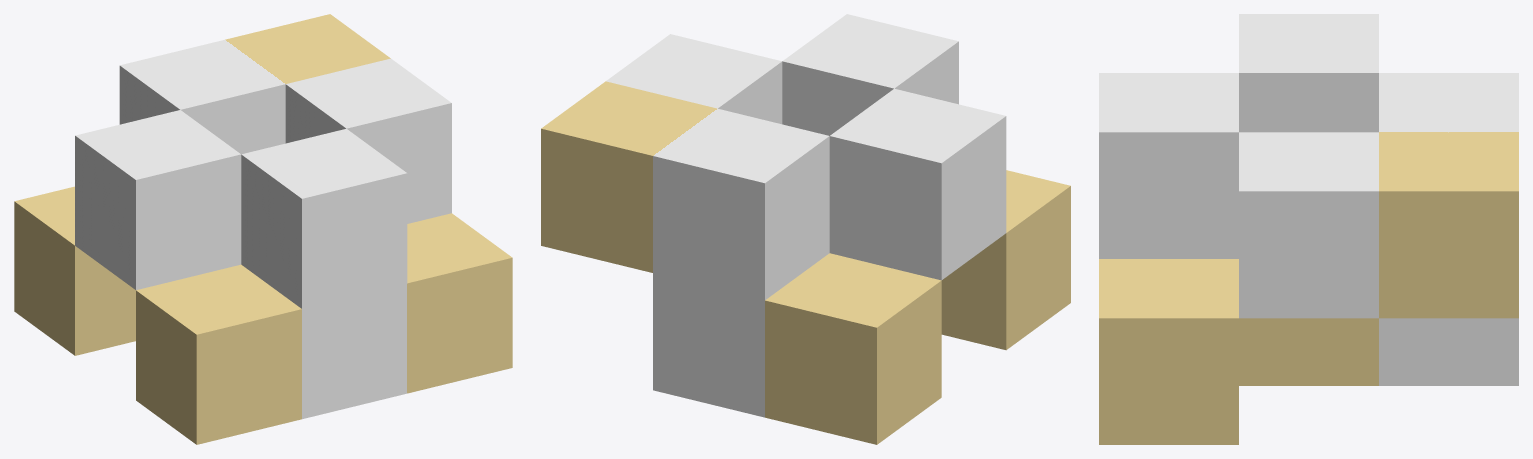
The model's file is PopCornTrail.fbx.
The picture shows the model from 3 angles, left to right: view 1: azimuth 30°, elevation 25°; view 2: azimuth 150°, elevation 25°; view 3: azimuth 270°, elevation 25°; orthographic projection. The views are drawn at different scales.
Parts seen in each view (by area): view 1: Matrix; view 2: Matrix; view 3: Matrix.
Part boxes in pixels (bbox=[...]): Matrix: bbox=[14, 14, 512, 444]; Matrix: bbox=[541, 14, 1070, 444]; Matrix: bbox=[1099, 14, 1518, 444].
Bounding box in the file's own units: 3 × 2 × 3.
